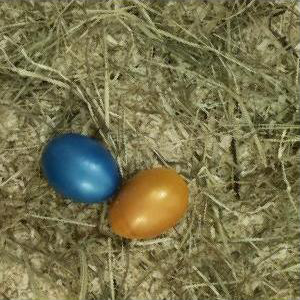egg: (107, 169, 188, 240), (43, 134, 121, 202)
